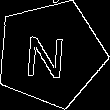N_N: (28, 27, 73, 80)
